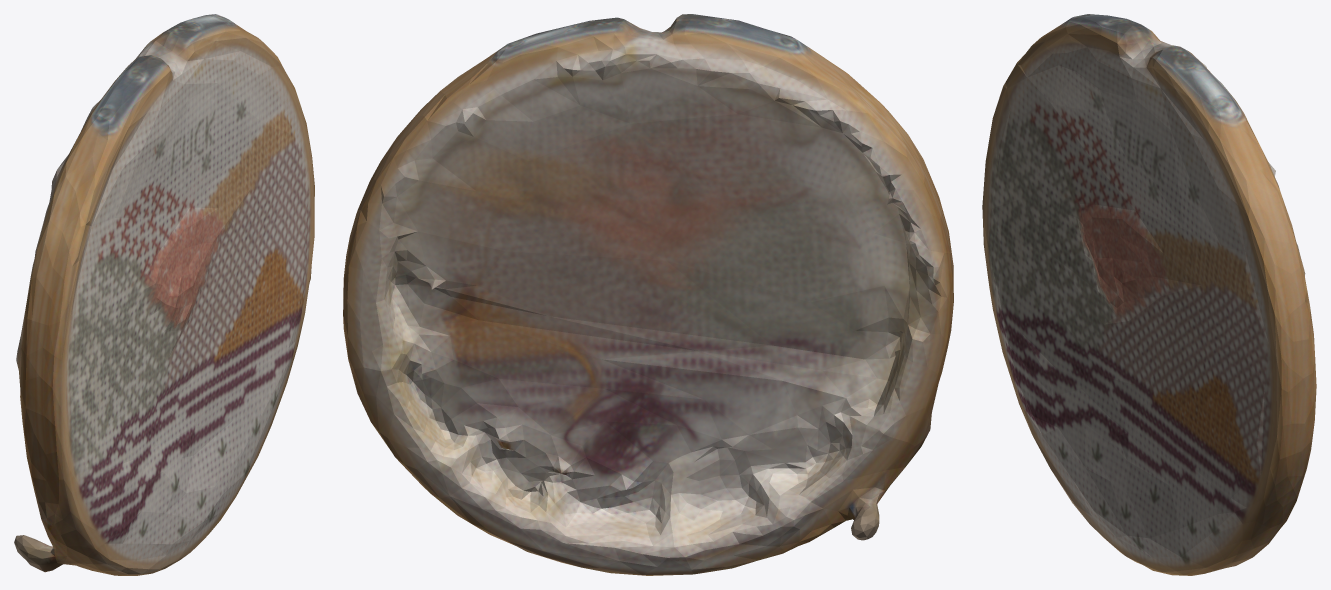
The picture shows the model from 3 angles, left to right: view 1: azimuth 30°, elevation 25°; view 2: azimuth 150°, elevation 25°; view 3: azimuth 270°, elevation 25°; orthographic projection. The views are drawn at different scales.
Visible parts, largest first — view 1: Stickerei Fuck_2k_2k; view 2: Stickerei Fuck_2k_2k; view 3: Stickerei Fuck_2k_2k.
Boxes of the visible parts, x1=… form: Stickerei Fuck_2k_2k: x1=14, y1=14, x2=314, y2=575; Stickerei Fuck_2k_2k: x1=343, y1=14, x2=953, y2=575; Stickerei Fuck_2k_2k: x1=982, y1=14, x2=1316, y2=575.
Size of the model in its own units: 0.0956 by 0.1099 by 0.0645.
1 material, 1 textured.
